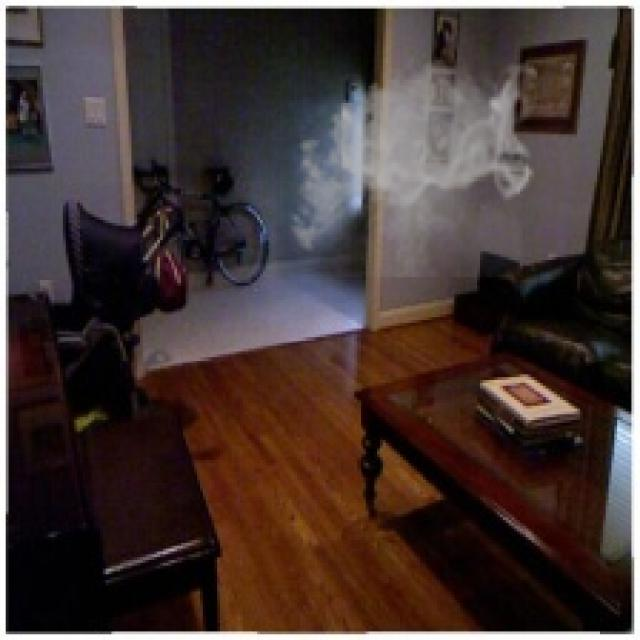smoke: (283, 52, 537, 277)
